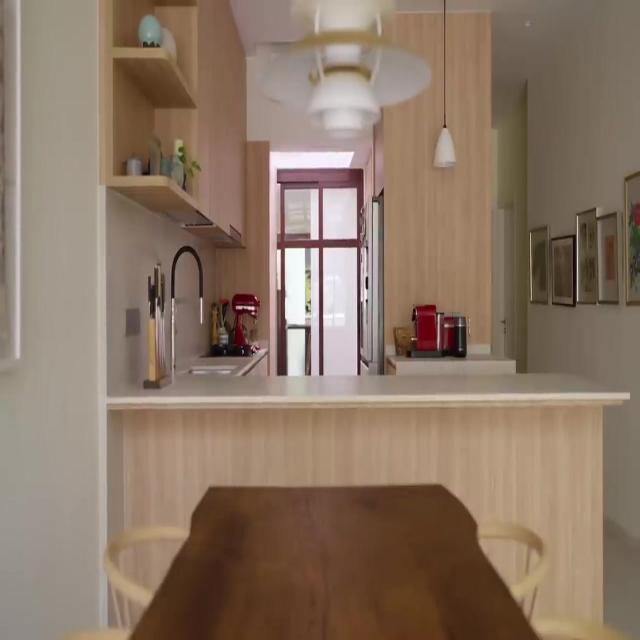door: (276, 167, 362, 376)
obstacle: (127, 482, 542, 638), (99, 0, 247, 248), (358, 190, 384, 374)
